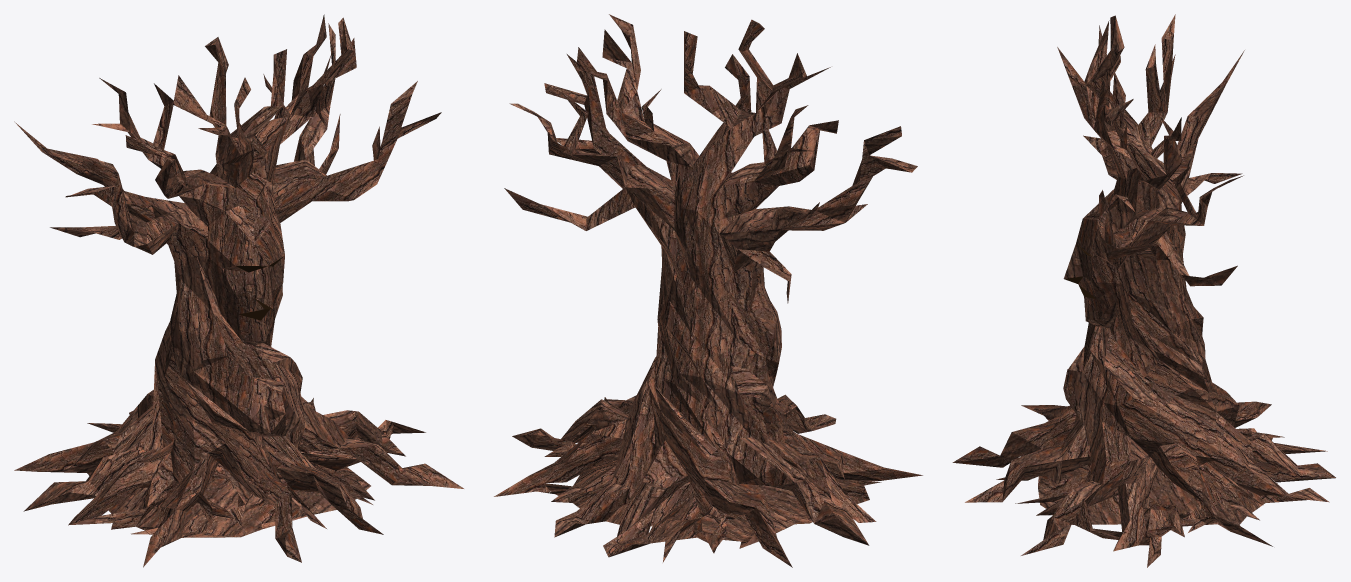
File: wise_tree.glb
3 views of the same model, side by side, from view 1: azimuth 30°, elevation 25°; view 2: azimuth 150°, elevation 25°; view 3: azimuth 270°, elevation 25° (orthographic). The views are drawn at different scales.
Parts seen in each view (by area): view 1: Node4; view 2: Node4; view 3: Node4.
Boxes of the visible parts, x1,y1,x2,y2 form: Node4: [14, 14, 463, 567]; Node4: [494, 14, 922, 567]; Node4: [952, 14, 1335, 567].
Bounding box in the file's own units: 0.1672 × 0.1931 × 0.1499.
2 materials, 1 textured.
